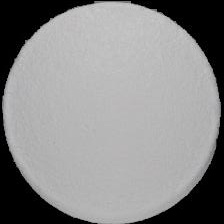21695-378: (0, 0, 224, 224)
